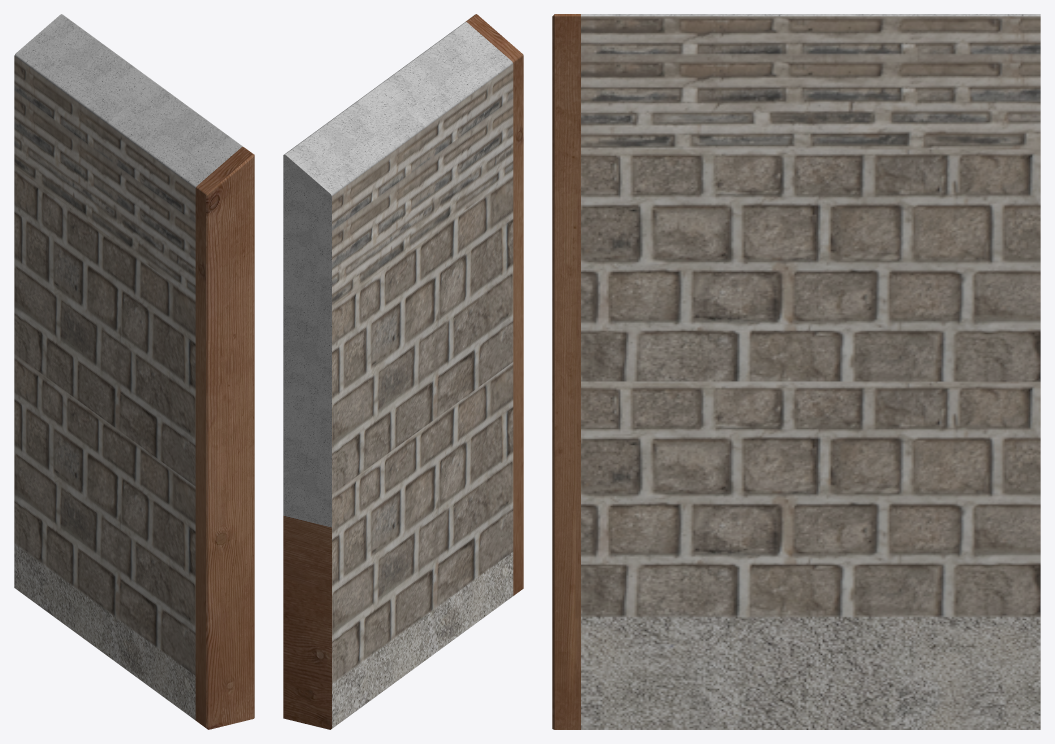
The model's file is SM_JSH_HG_StoneWallD.fbx.
The picture shows the model from 3 angles, left to right: view 1: azimuth 30°, elevation 25°; view 2: azimuth 150°, elevation 25°; view 3: azimuth 270°, elevation 25°; orthographic projection. The views are drawn at different scales.
Visible parts, largest first — view 1: SM_JSH_HG_StoneWallD; view 2: SM_JSH_HG_StoneWallD; view 3: SM_JSH_HG_StoneWallD.
Boxes of the visible parts, bbox=[...] form: SM_JSH_HG_StoneWallD: bbox=[14, 14, 254, 729]; SM_JSH_HG_StoneWallD: bbox=[283, 14, 523, 729]; SM_JSH_HG_StoneWallD: bbox=[552, 14, 1040, 729].
Size of the model in its own units: 16.75 by 115 by 186.
Materials: 1 (1 with a texture image).
